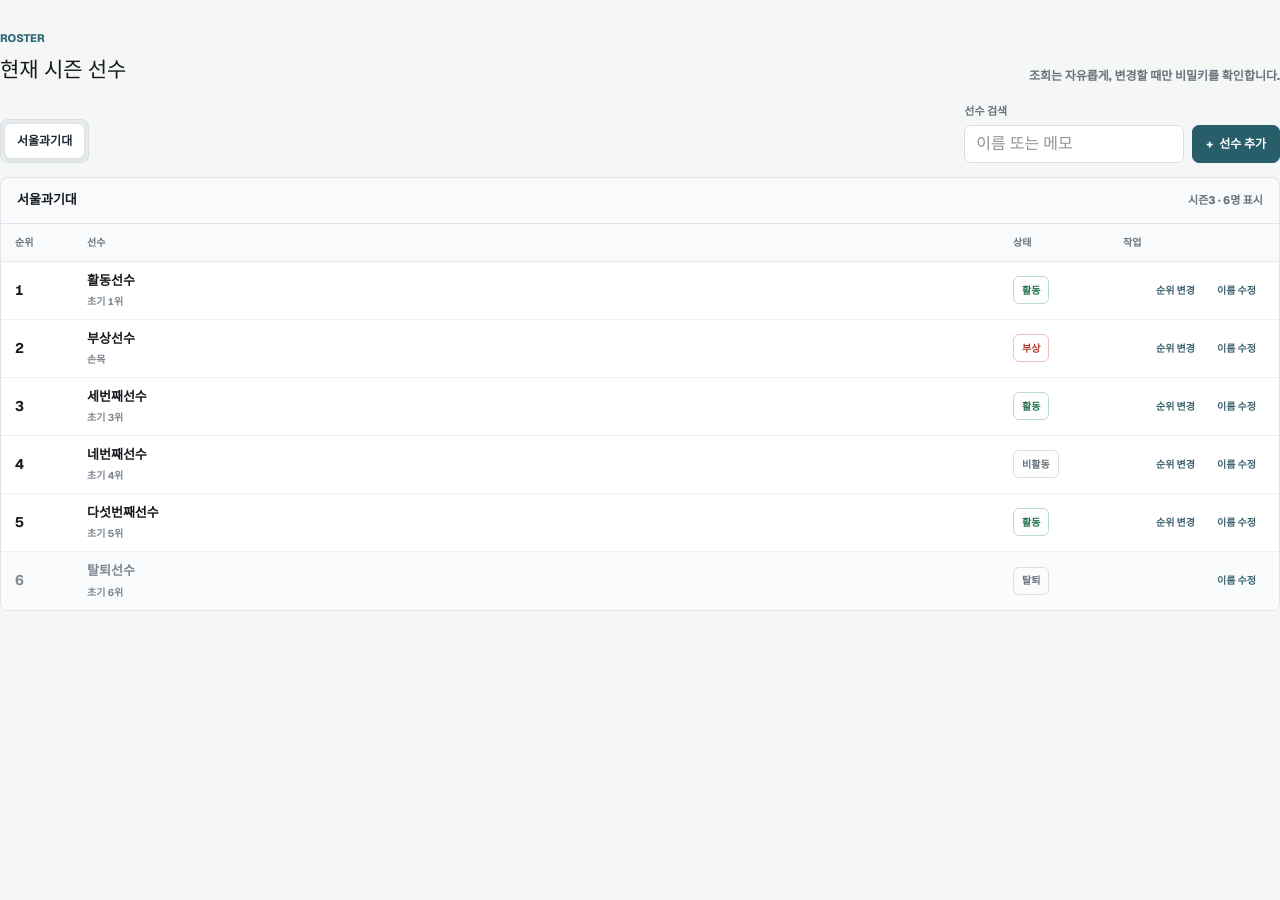
AdminPlayerManager › keeps a failed rank adjustment open and clears its secret
Click the button with aria-label "다섯번째선수 순위 변경": (1176, 522) [1147,508,1204,536]
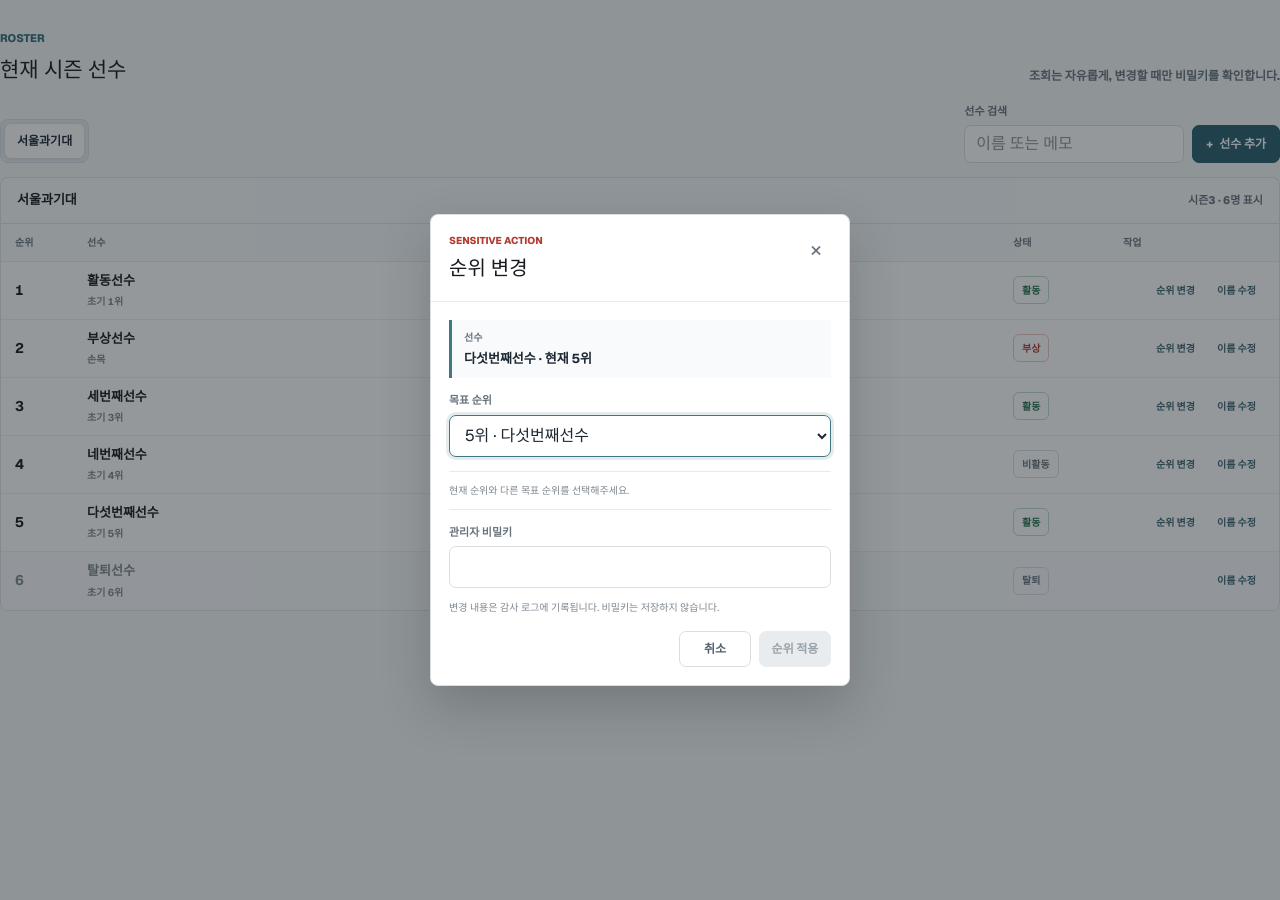
Select "2위 · 부상선수" in the dropdown labelled "목표 순위": (640, 436) [449,415,831,457]
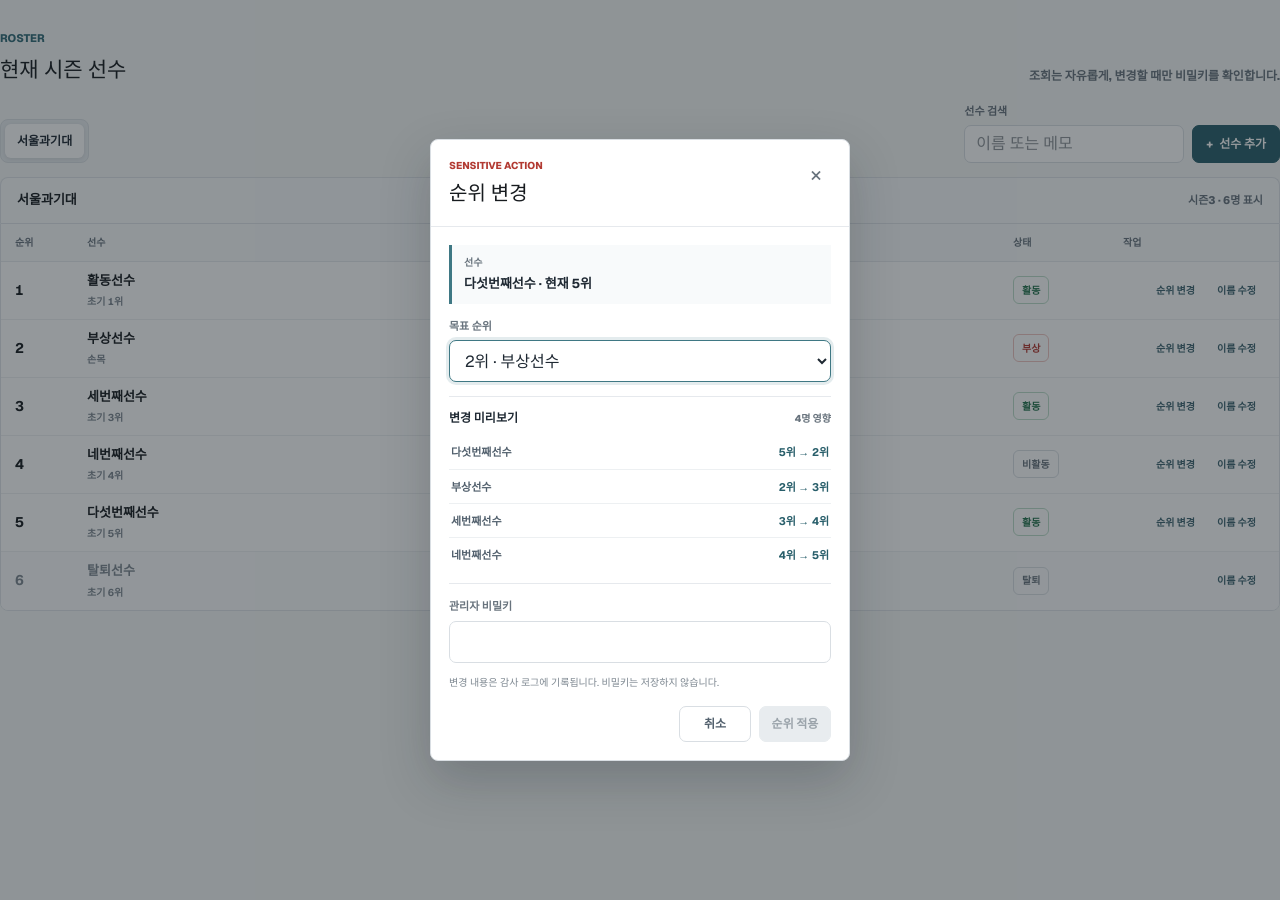
In the password field labelled "관리자 비밀키": (640, 642) [449,621,831,663], type "wrong"
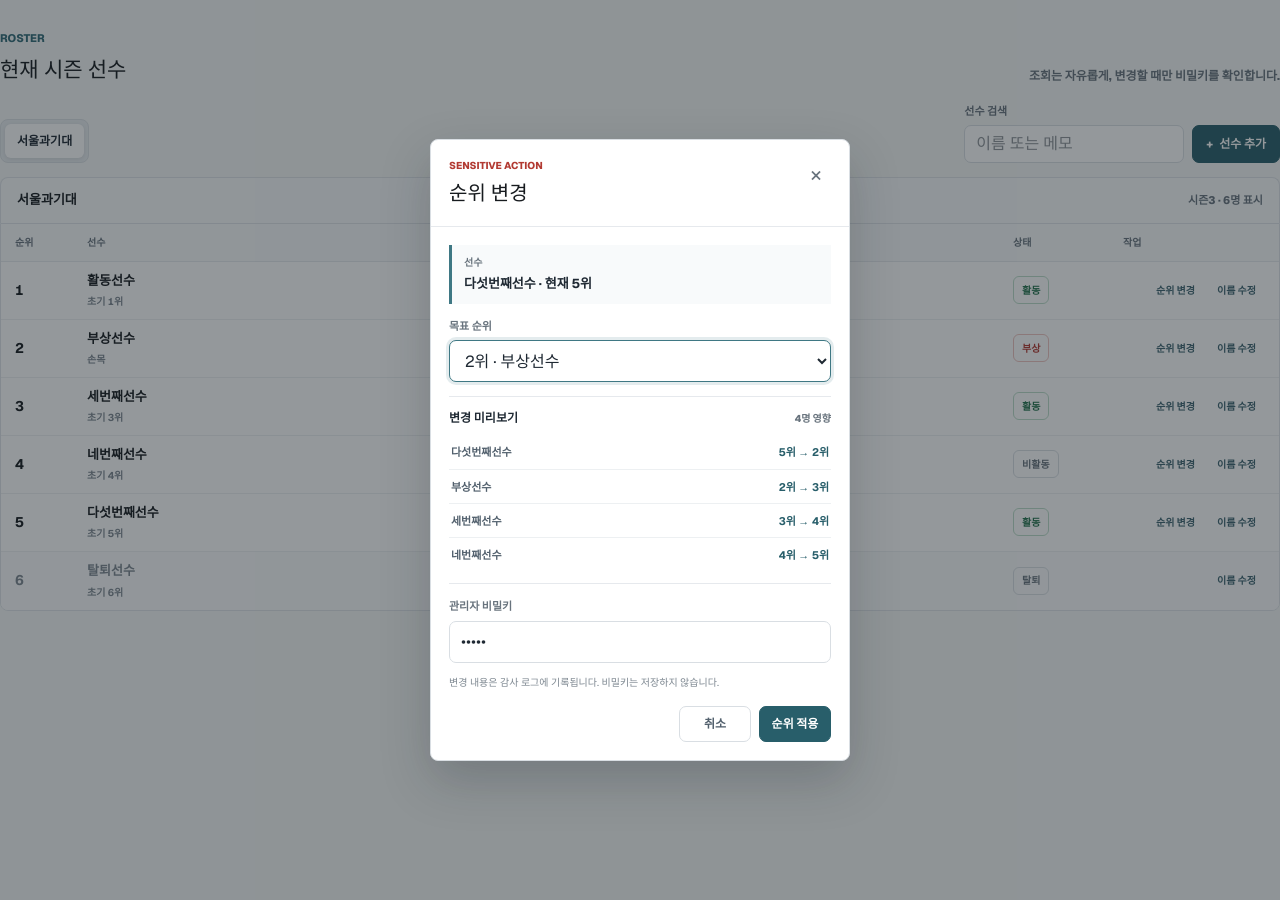
Click the button "순위 적용": (795, 724) [759,706,831,742]
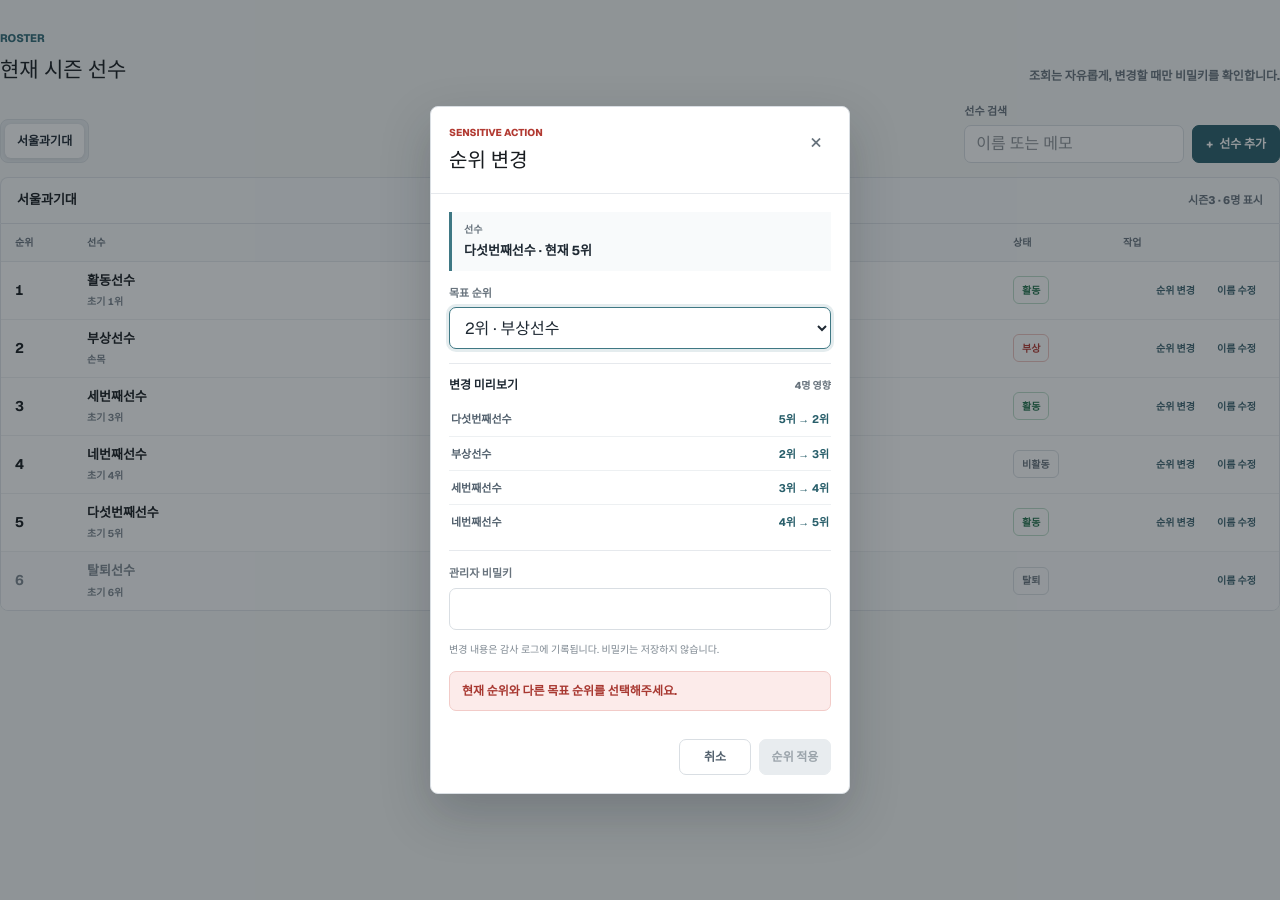
Result: the dialog "순위 변경" is shown at [430,106,850,794]
Result: the text "현재 순위와 다른 목표 순위를 선택해주세요." is shown at [449,671,831,711]
Result: the password field labelled "관리자 비밀키" is empty at [449,588,831,630]
